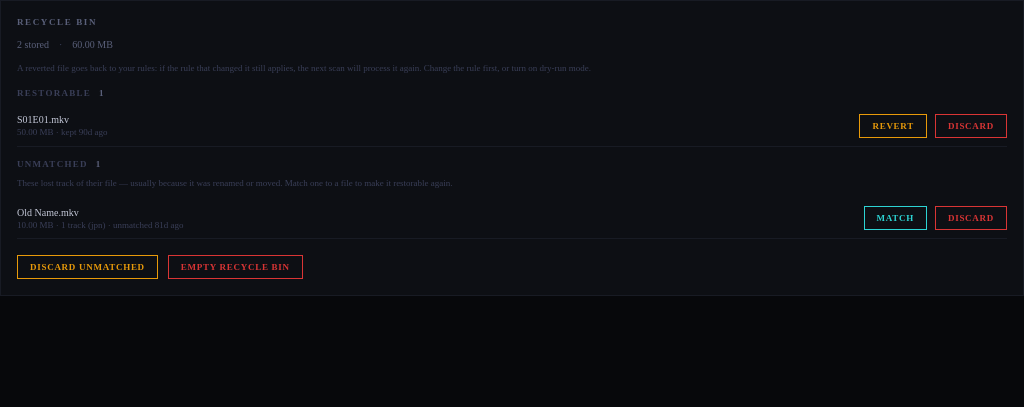
Test: matching › says so when nothing plausible was found
Click the button "MATCH". click: point(895, 218)
box: [864,206,927,230]
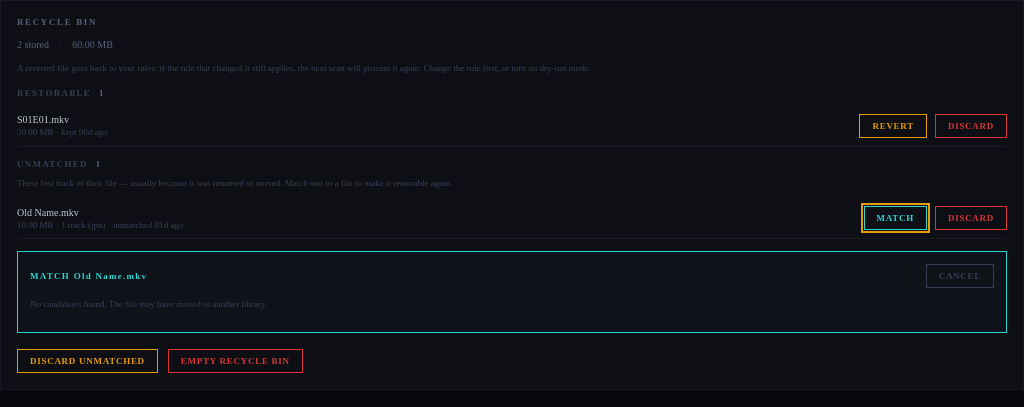
expect the text "No candidates found" is shown: met, box [30,299,267,309]
